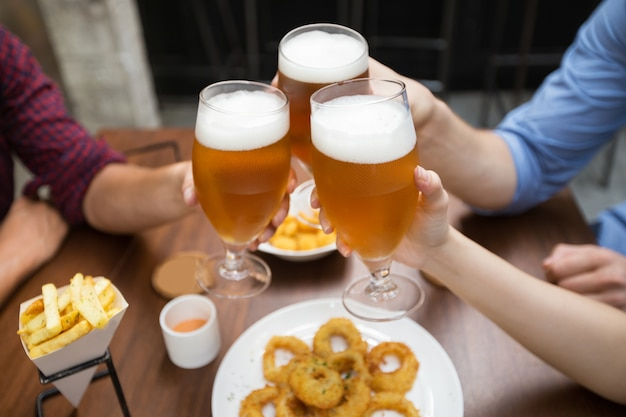alcohol: (310, 79, 426, 322), (190, 77, 288, 301), (274, 19, 371, 171)
